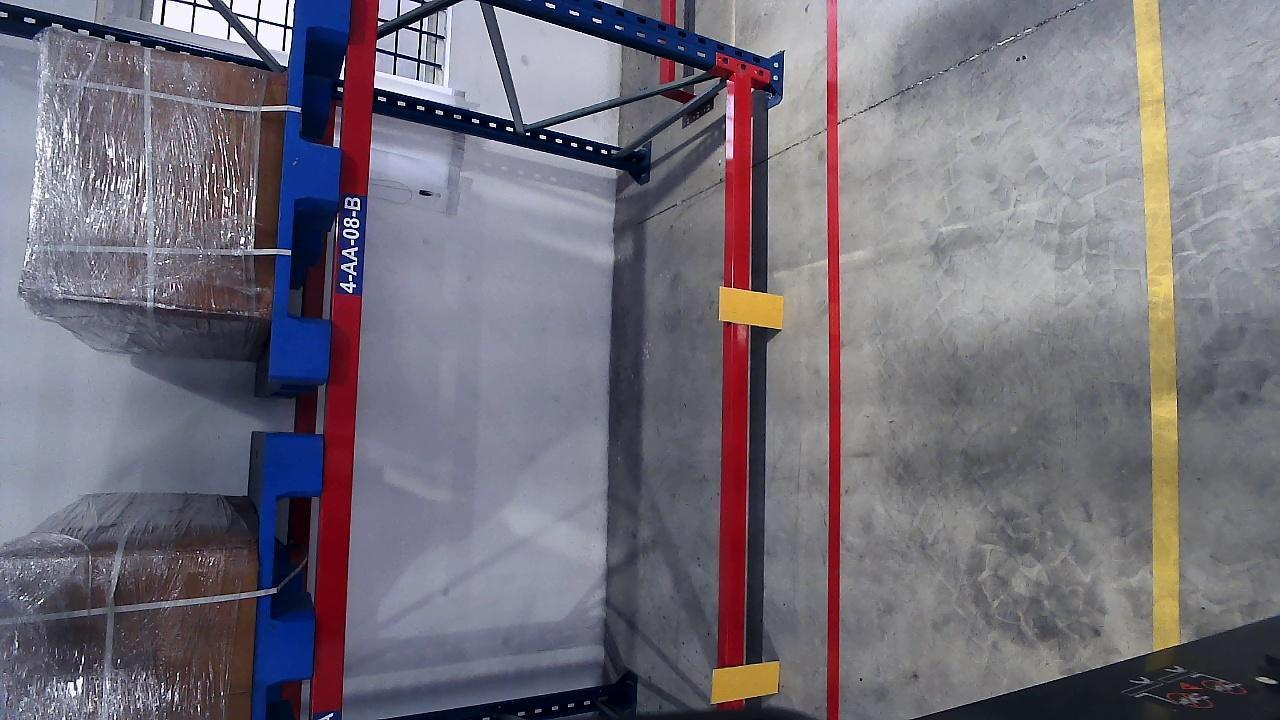red_line: (822, 11, 837, 720)
yellow_line: (1138, 0, 1180, 640)
